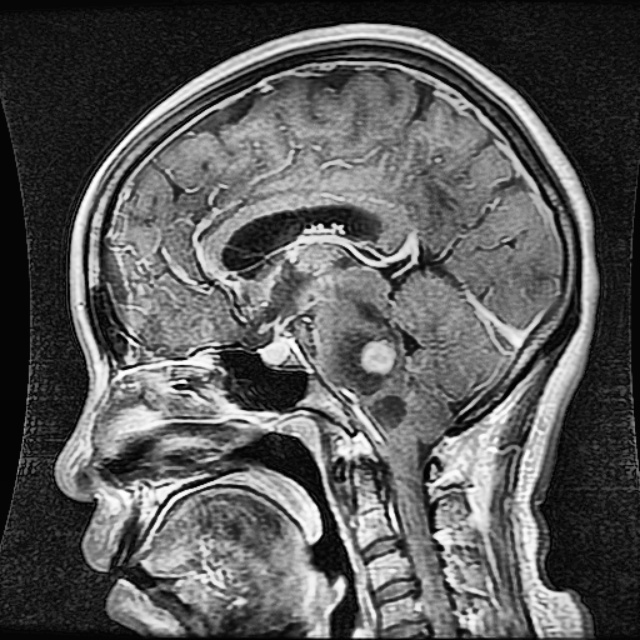Meningioma: (363, 340, 394, 372)
